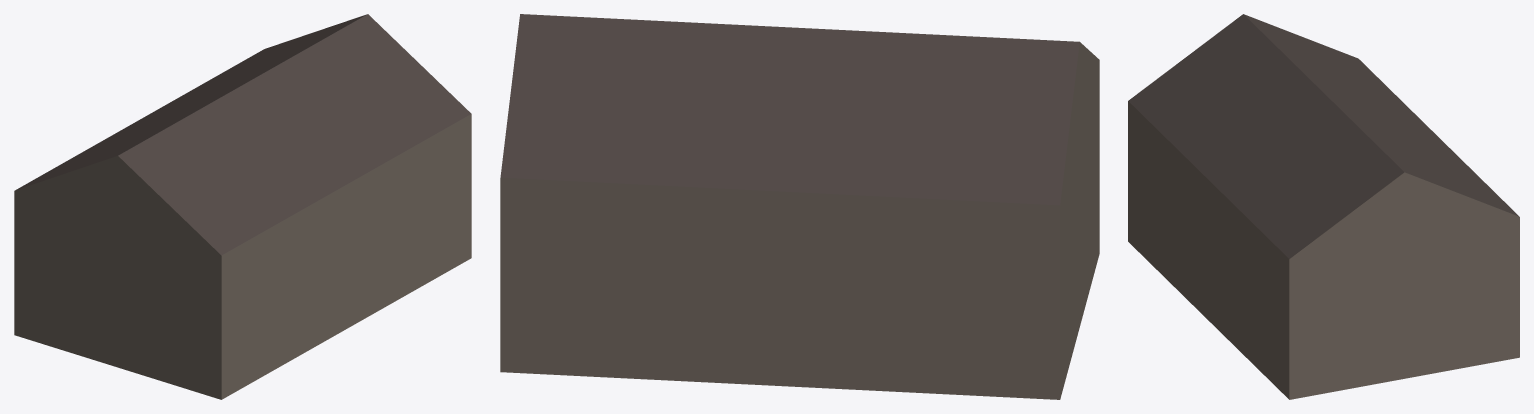
3 renders of one model, left to right at view 1: azimuth 30°, elevation 25°; view 2: azimuth 150°, elevation 25°; view 3: azimuth 270°, elevation 25°, orthographic. The views are drawn at different scales.
Parts seen in each view (by area): view 1: HP-w369342577; view 2: HP-w369342577; view 3: HP-w369342577.
Boxes of the visible parts, left/top/right/bottom form: HP-w369342577: left=14, top=14, right=471, bottom=399; HP-w369342577: left=500, top=14, right=1099, bottom=399; HP-w369342577: left=1128, top=14, right=1519, bottom=399.
Size of the model in its own units: 27.51 by 13.2 by 22.7.
